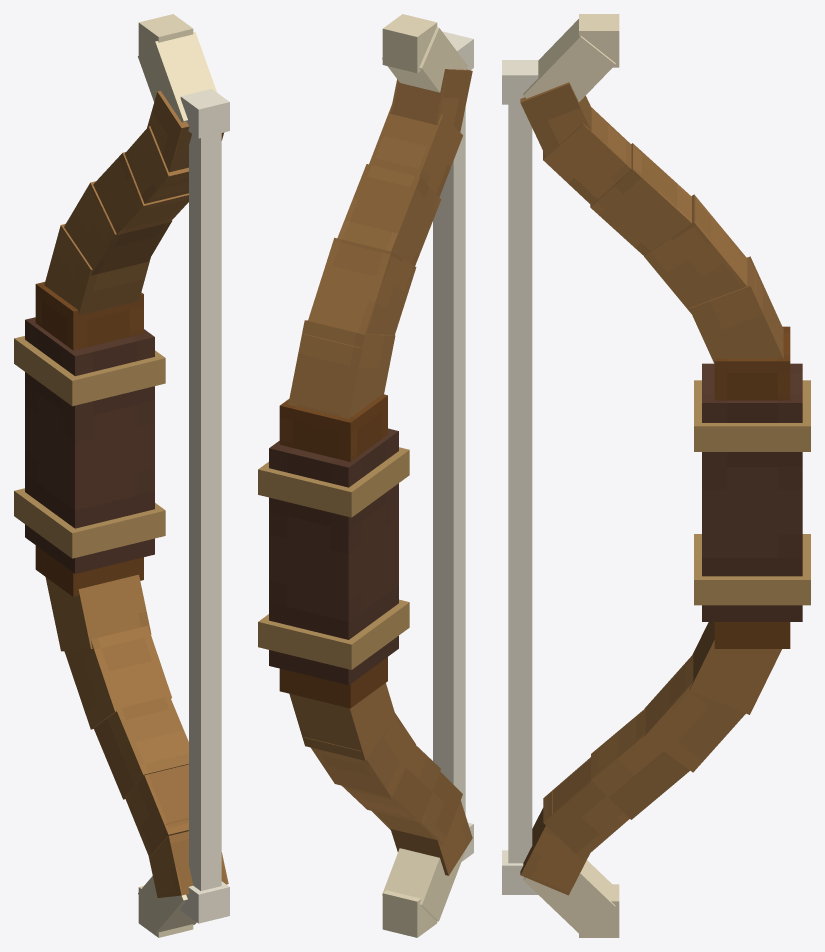
Rendered from tool_bow.glb.
The picture shows the model from 3 angles, left to right: view 1: azimuth 30°, elevation 25°; view 2: azimuth 150°, elevation 25°; view 3: azimuth 270°, elevation 25°; orthographic projection.
Parts seen in each view (by area): view 1: tool_bow; view 2: tool_bow; view 3: tool_bow.
Part boxes in pixels (x1=…): tool_bow: x1=14, y1=14, x2=229, y2=937; tool_bow: x1=258, y1=14, x2=473, y2=937; tool_bow: x1=502, y1=14, x2=810, y2=937.
Size of the model in its own units: 0.135 by 1.24 by 0.383.
Materials: 6 (3 with a texture image).
